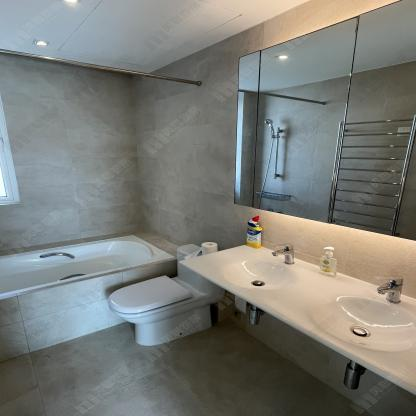Bathtub: (1, 228, 180, 361)
Faucet: (373, 274, 407, 304), (268, 241, 300, 267)
Toilet: (105, 243, 224, 346)
Toilet Sink: (285, 288, 416, 365), (193, 252, 319, 301)
